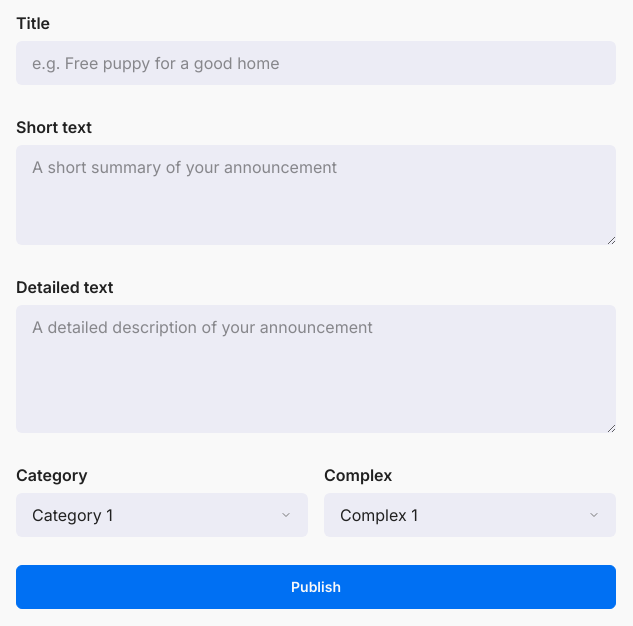
Test: NewPostForm - Integration › should show validation errors when fields are invalid
Click the button "Publish" at [316, 587], box top-left (16, 565), bottom-right (616, 609)
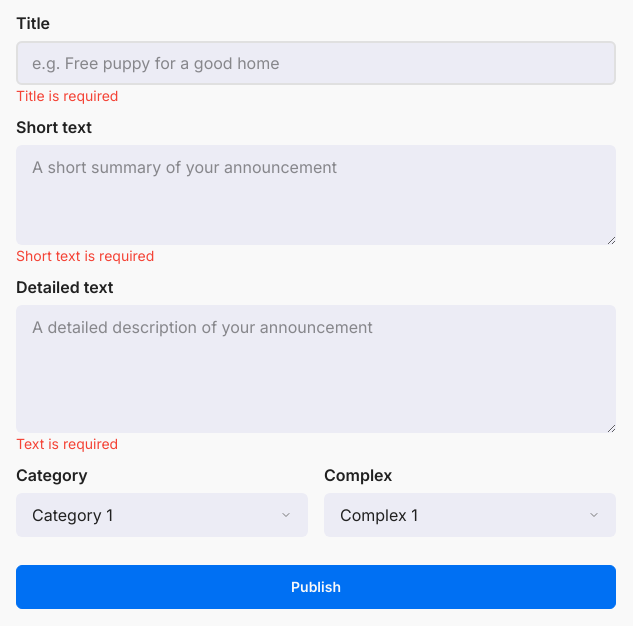
Now the text "Title is required" is shown, box top-left (16, 87), bottom-right (118, 105)
